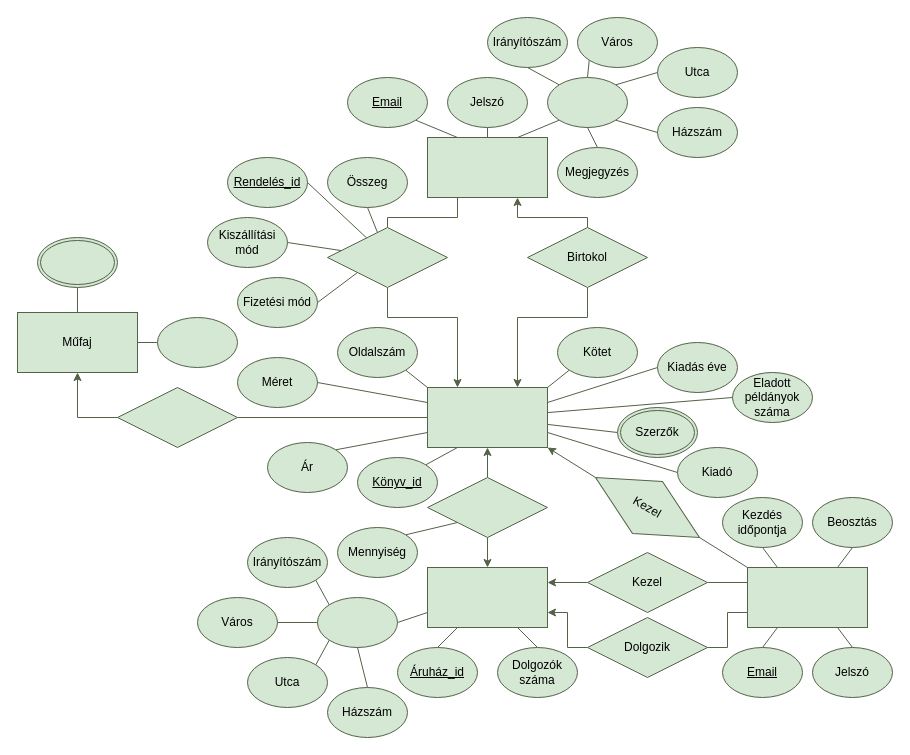
This 910x755 diagram has some shape labels left out. The shapes that lost their labels are listed below. From the top down, each one's box as (x1, y1, x2, y2) in pixels, then its label:
(546, 76, 628, 128): Számlázási cím
(426, 136, 548, 198): Vásárló
(36, 236, 118, 288): Alműfaj
(326, 226, 448, 288): Vásárol
(156, 316, 238, 368): Megnevezés
(116, 386, 238, 448): Tartozik
(426, 386, 548, 448): Könyv
(426, 476, 548, 538): Készleten van
(426, 566, 548, 628): Áruház
(746, 566, 868, 628): Admin
(316, 596, 398, 648): Cím
